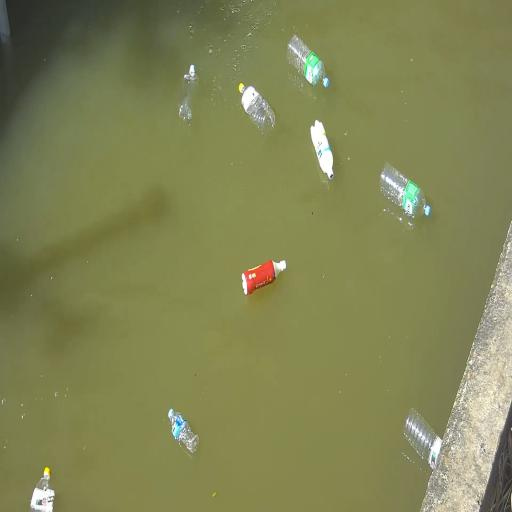plastic: (380, 163, 430, 217), (404, 409, 442, 469), (287, 35, 329, 88), (238, 82, 275, 138), (242, 260, 286, 295), (311, 120, 334, 180), (168, 409, 198, 454), (179, 64, 198, 124), (31, 467, 55, 511)
